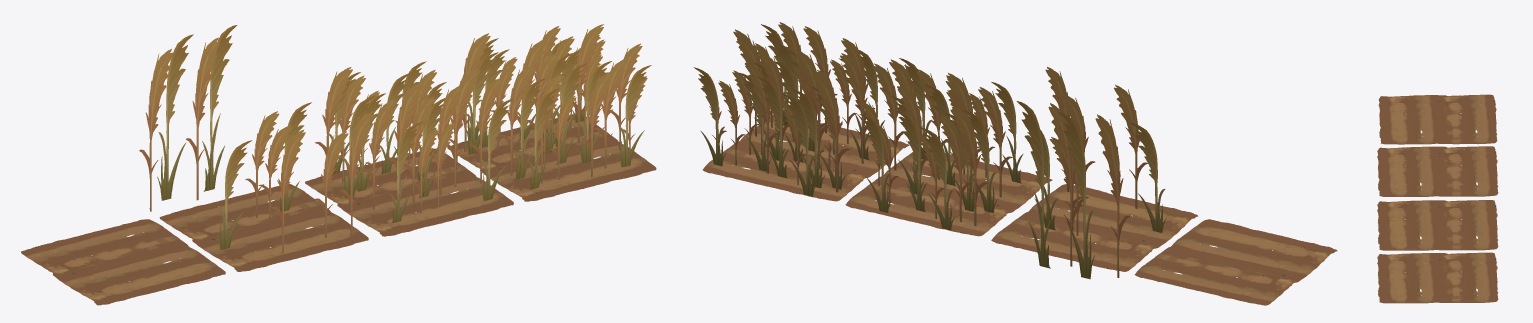
Rendered from PR_wheat.gltf.
The picture shows the model from 3 angles, left to right: view 1: azimuth 30°, elevation 25°; view 2: azimuth 150°, elevation 25°; view 3: azimuth 270°, elevation 25°; orthographic projection. The views are drawn at different scales.
Parts seen in each view (by area): view 1: PR_Wheat, PR_Wheat.001, PR_GroundFarm_Base, PR_Ground.002, PR_Ground.001, PR_Ground, PR_Wheat.002, PR_Wheat3, PR_Wheat4, PR_Wheat1, PR_Wheat2; view 2: PR_Wheat, PR_Wheat.001, PR_GroundFarm_Base, PR_Ground.002, PR_Ground.001, PR_Ground, PR_Wheat.002, PR_Wheat3, PR_Wheat4, PR_Wheat2, PR_Wheat1; view 3: PR_Ground.001, PR_Ground, PR_Ground.002, PR_GroundFarm_Base.
Part boxes in pixels (x1=…): PR_Wheat: x1=453, y1=24, x2=651, y2=189; PR_Wheat.001: x1=315, y1=61, x2=513, y2=223; PR_GroundFarm_Base: x1=21, y1=219, x2=225, y2=305; PR_Ground.002: x1=159, y1=184, x2=368, y2=271; PR_Ground.001: x1=305, y1=148, x2=513, y2=236; PR_Ground: x1=447, y1=114, x2=656, y2=201; PR_Wheat.002: x1=216, y1=102, x2=373, y2=252; PR_Wheat3: x1=157, y1=34, x2=193, y2=200; PR_Wheat4: x1=202, y1=25, x2=237, y2=191; PR_Wheat1: x1=186, y1=37, x2=219, y2=200; PR_Wheat2: x1=139, y1=48, x2=173, y2=211; PR_Wheat: x1=694, y1=22, x2=884, y2=196; PR_Wheat.001: x1=859, y1=58, x2=1023, y2=230; PR_GroundFarm_Base: x1=1134, y1=219, x2=1337, y2=305; PR_Ground.002: x1=991, y1=184, x2=1197, y2=271; PR_Ground.001: x1=845, y1=152, x2=1052, y2=236; PR_Ground: x1=702, y1=114, x2=909, y2=201; PR_Wheat.002: x1=1027, y1=67, x2=1166, y2=235; PR_Wheat3: x1=1058, y1=112, x2=1094, y2=279; PR_Wheat4: x1=1016, y1=101, x2=1051, y2=268; PR_Wheat2: x1=1095, y1=114, x2=1129, y2=277; PR_Wheat1: x1=1048, y1=103, x2=1082, y2=266; PR_Ground.001: x1=1377, y1=200, x2=1498, y2=250; PR_Ground: x1=1377, y1=252, x2=1498, y2=303; PR_Ground.002: x1=1377, y1=146, x2=1498, y2=196; PR_GroundFarm_Base: x1=1378, y1=94, x2=1497, y2=144.
Size of the model in its own units: 3.62 by 1 by 1.02.
Materials: 2 (2 with a texture image).
